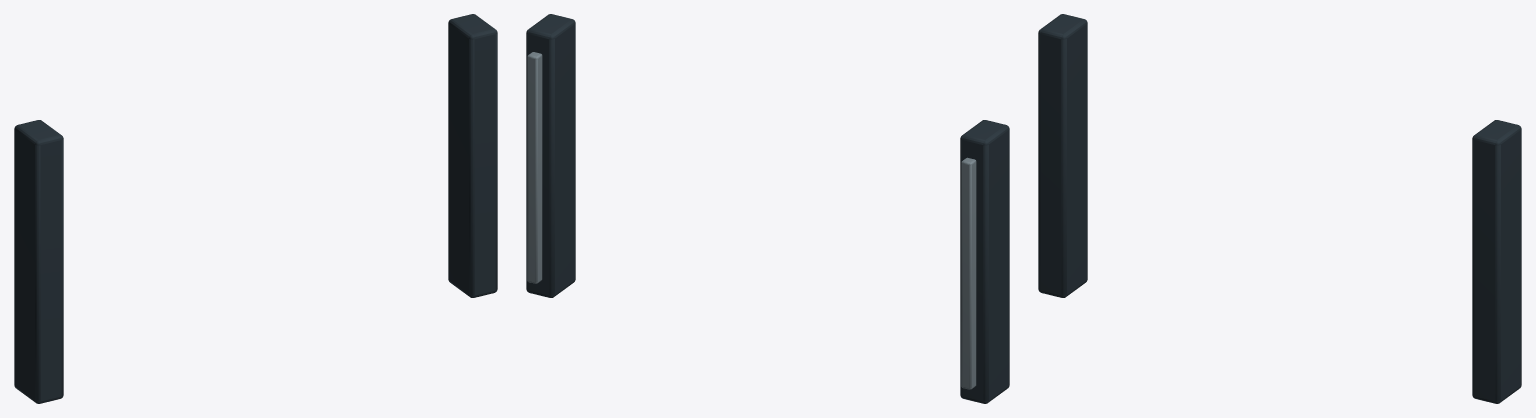
Rendered from SM_Mech_DockWeaponMount.fbx.
The picture shows the model from 3 angles, left to right: view 1: azimuth 30°, elevation 25°; view 2: azimuth 150°, elevation 25°; view 3: azimuth 330°, elevation 25°; orthographic projection.
Visible parts, largest first — view 1: SM_Mech_DockWeaponMount; view 2: SM_Mech_DockWeaponMount; view 3: SM_Mech_DockWeaponMount.
Boxes of the visible parts, x1,y1,x2,y2 form: SM_Mech_DockWeaponMount: (14,14,497,403); SM_Mech_DockWeaponMount: (526,14,1009,403); SM_Mech_DockWeaponMount: (1038,14,1521,403).
Bounding box in the file's own units: 132 × 15.5 × 72.
